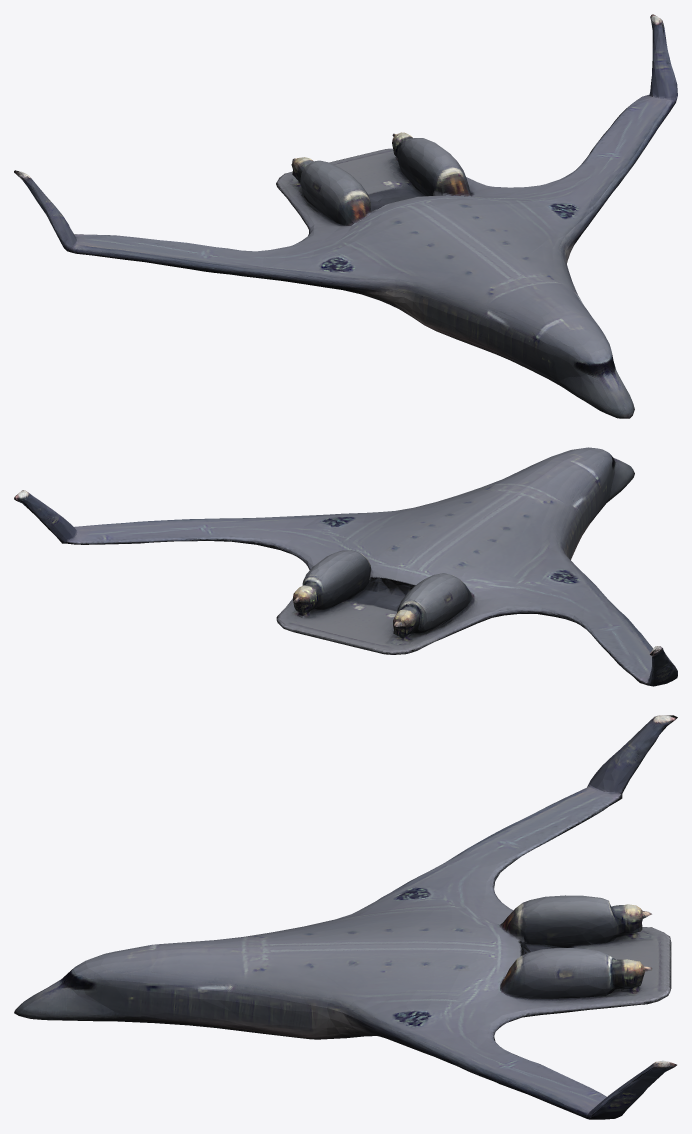
3 renders of one model, top to bottom at view 1: azimuth 30°, elevation 25°; view 2: azimuth 150°, elevation 25°; view 3: azimuth 270°, elevation 25°, orthographic. The views are drawn at different scales.
Parts seen in each view (by area): view 1: world; view 2: world; view 3: world.
Part boxes in pixels (x1,y1,x2,y2): world: [14, 14, 677, 418]; world: [14, 447, 677, 686]; world: [14, 715, 677, 1119].
Size of the model in its own units: 1 by 0.1786 by 0.8031.
1 material, 1 textured.
